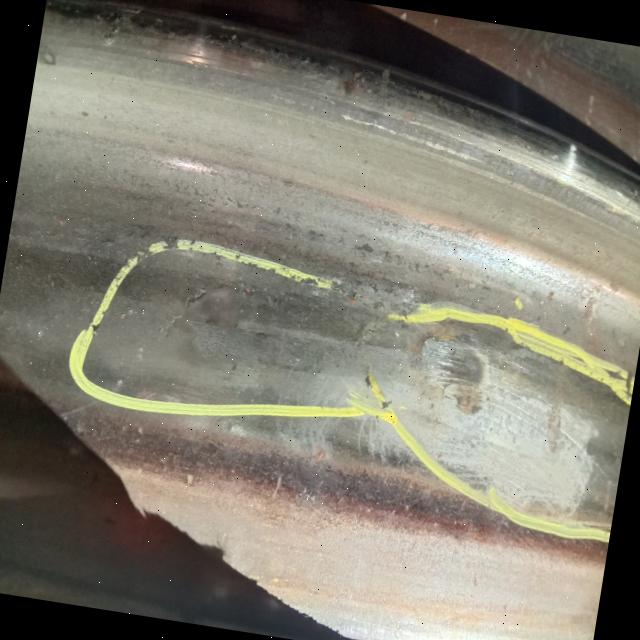Contact_Fatigue_Cracks: (156, 256, 243, 359)
flat: (401, 335, 622, 509)
